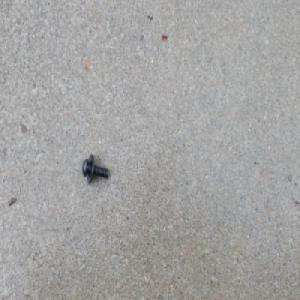BoltWasher: (81, 153, 109, 185)
